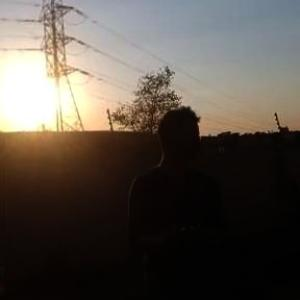follow: (125, 104, 228, 299)
